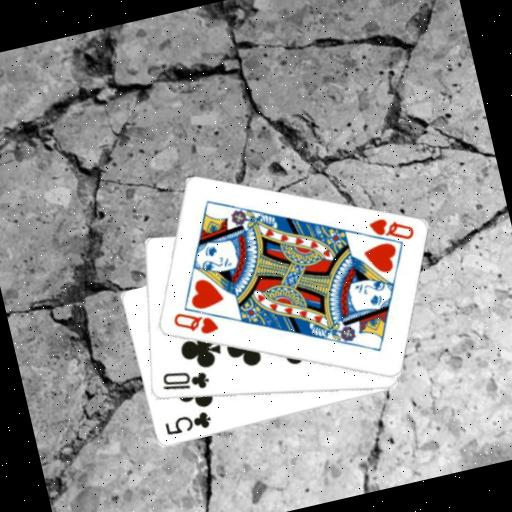10C: (156, 361, 212, 400)
5C: (160, 408, 214, 439)
QH: (355, 209, 418, 256), (168, 302, 221, 344)
